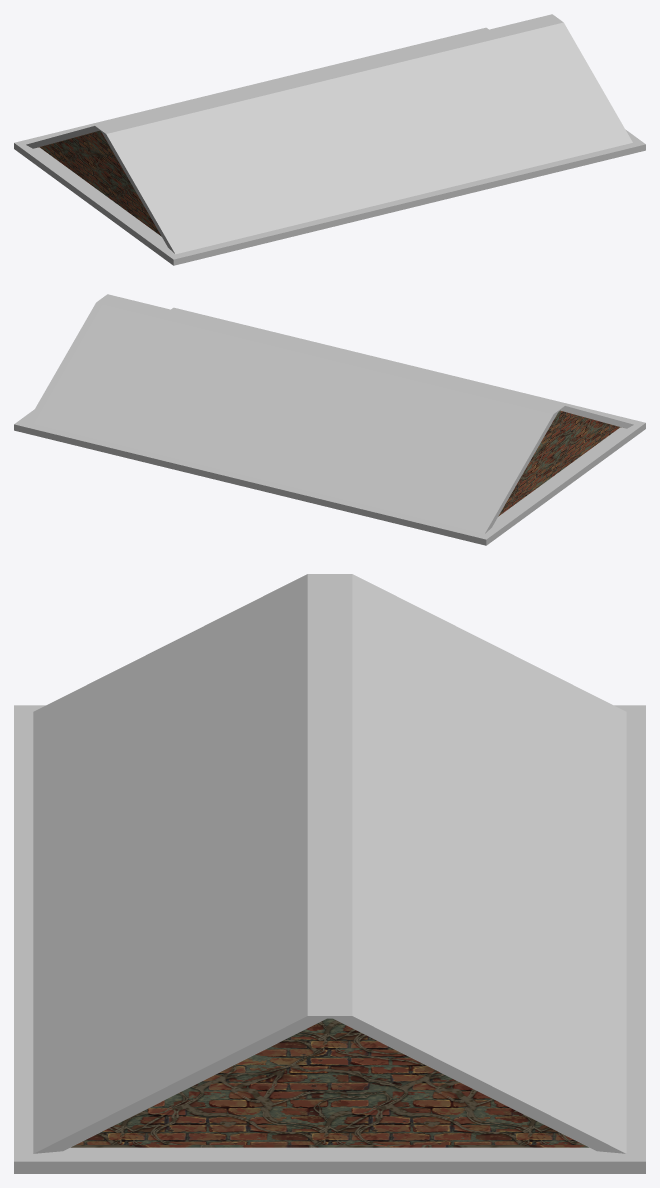
The model's file is largerRoof_Resized.fbx.
3 views of the same model, one above another, from view 1: azimuth 30°, elevation 25°; view 2: azimuth 150°, elevation 25°; view 3: azimuth 270°, elevation 25° (orthographic). The views are drawn at different scales.
Visible parts, largest first — view 1: Cube; view 2: Cube; view 3: Cube.
Boxes of the visible parts, <box> form: Cube: <box>14,14,645,265</box>; Cube: <box>14,294,645,545</box>; Cube: <box>14,574,645,1173</box>.
Size of the model in its own units: 6516 by 999 by 3814.
